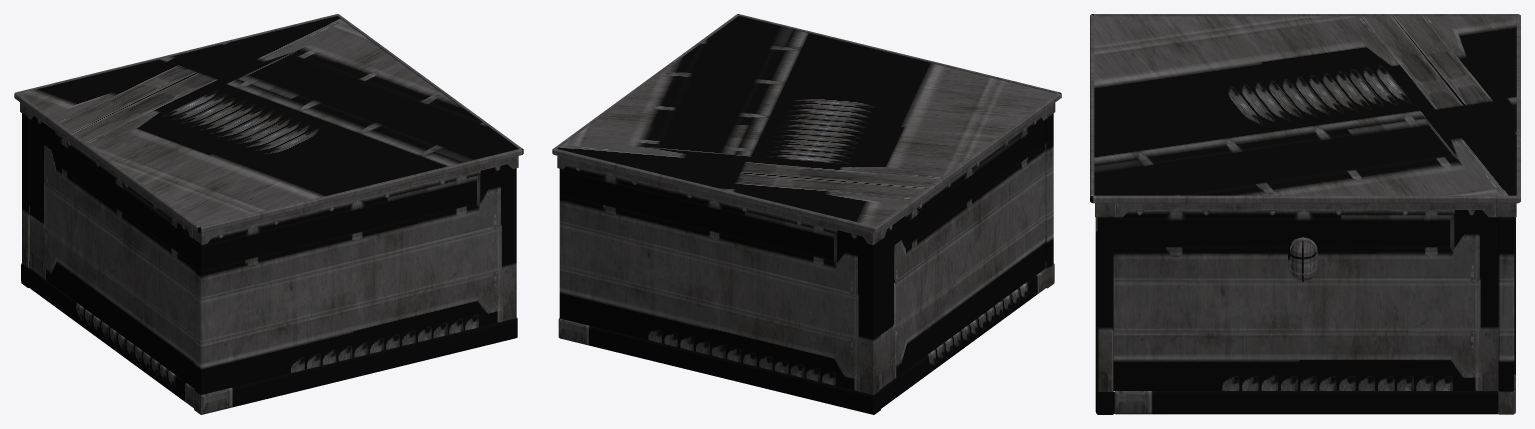
The model's file is bloc.fbx.
The picture shows the model from 3 angles, left to right: view 1: azimuth 30°, elevation 25°; view 2: azimuth 150°, elevation 25°; view 3: azimuth 270°, elevation 25°; orthographic projection. The views are drawn at different scales.
Parts seen in each view (by area): view 1: wall_inner_017_1; view 2: wall_inner_017_1; view 3: wall_inner_017_1.
Boxes of the visible parts, x1,y1,x2,y2 form: wall_inner_017_1: [14, 14, 523, 414]; wall_inner_017_1: [552, 14, 1061, 414]; wall_inner_017_1: [1090, 14, 1520, 414].
Size of the model in its own units: 434 by 236 by 419.
